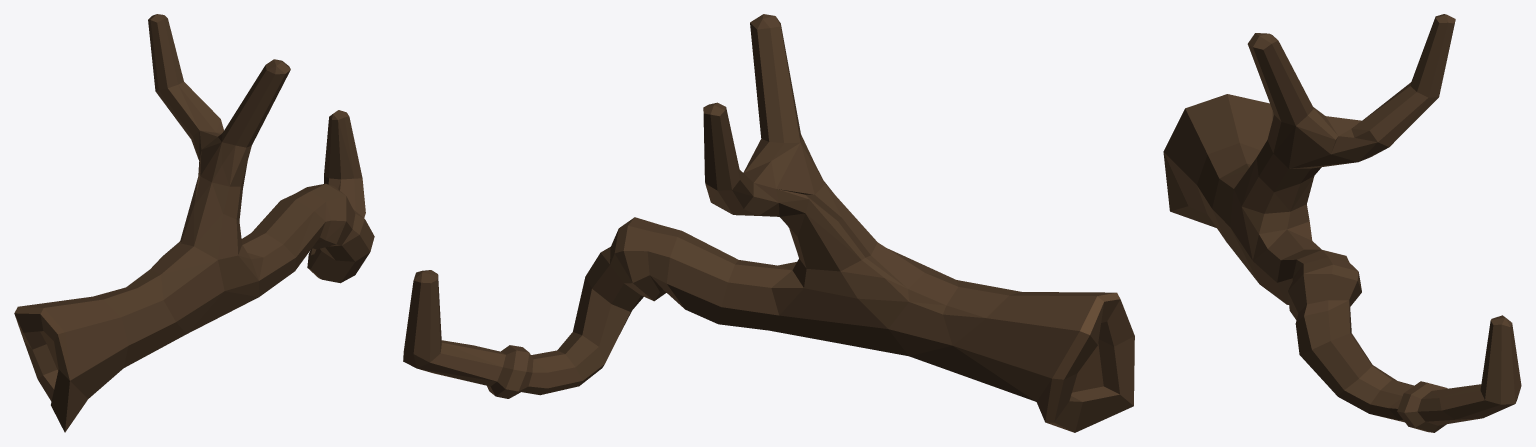
File: EM_Branch01a.fbx
3 views of the same model, side by side, from view 1: azimuth 30°, elevation 25°; view 2: azimuth 150°, elevation 25°; view 3: azimuth 270°, elevation 25° (orthographic). The views are drawn at different scales.
Visible parts, largest first — view 1: EM_Branch01a_LOD0; view 2: EM_Branch01a_LOD0; view 3: EM_Branch01a_LOD0.
Part boxes in pixels (x1=…): EM_Branch01a_LOD0: x1=14, y1=14, x2=374, y2=432; EM_Branch01a_LOD0: x1=403, y1=14, x2=1134, y2=432; EM_Branch01a_LOD0: x1=1163, y1=14, x2=1521, y2=432.
Size of what is drawn, in the model's own units: 2.24 by 1.38 by 1.37.
